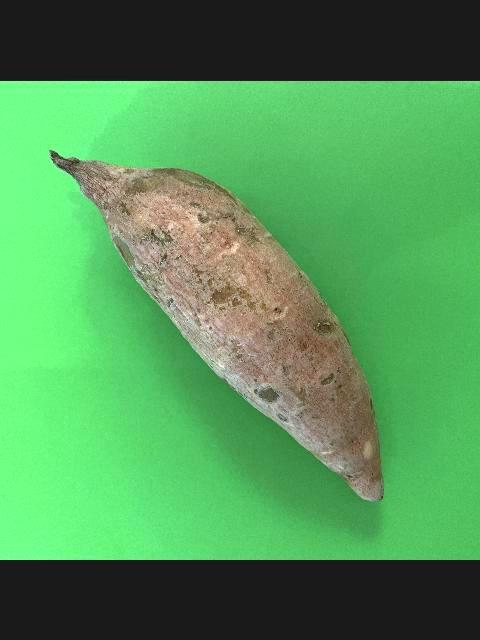sweetpotato: (46, 150, 386, 500)
